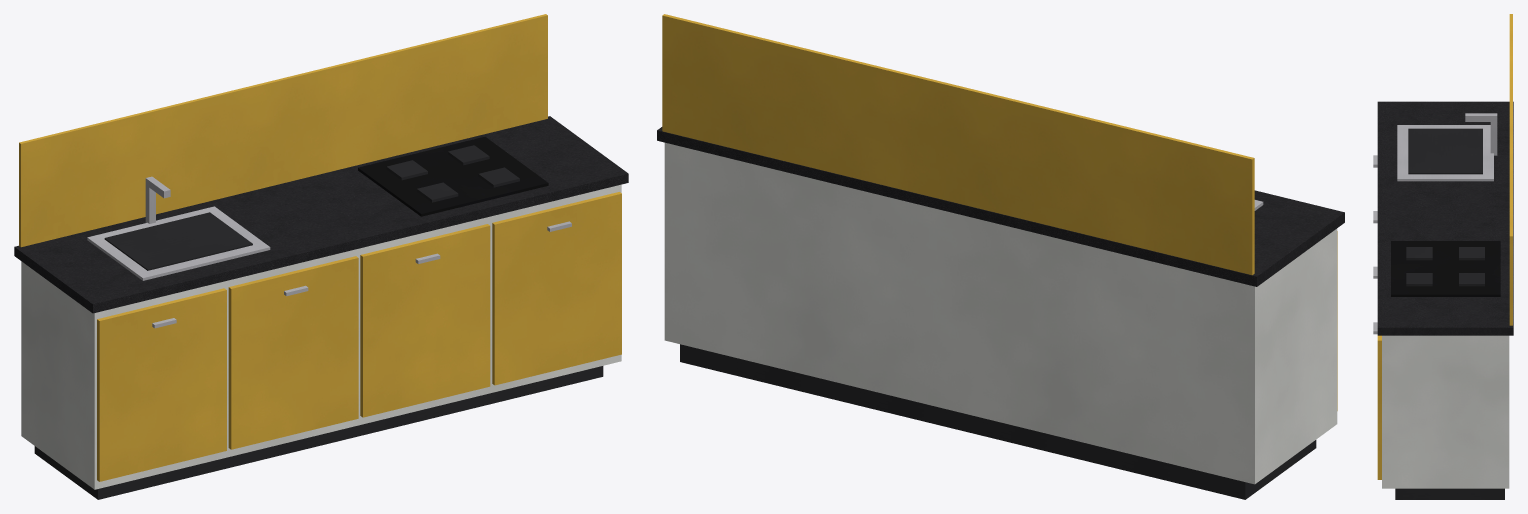
The picture shows the model from 3 angles, left to right: view 1: azimuth 30°, elevation 25°; view 2: azimuth 150°, elevation 25°; view 3: azimuth 270°, elevation 25°; orthographic projection. The views are drawn at different scales.
Parts seen in each view (by area): view 1: KitchenCounter_Game; view 2: KitchenCounter_Game; view 3: KitchenCounter_Game.
Boxes of the visible parts, x1,y1,x2,y2 form: KitchenCounter_Game: (14, 14, 628, 499); KitchenCounter_Game: (657, 14, 1344, 499); KitchenCounter_Game: (1373, 14, 1513, 499).
Size of the model in its own units: 2.44 by 1.35 by 0.64.
6 materials, 6 textured.
